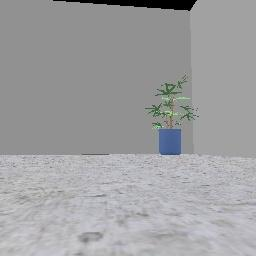planta: (145, 75, 198, 154)
